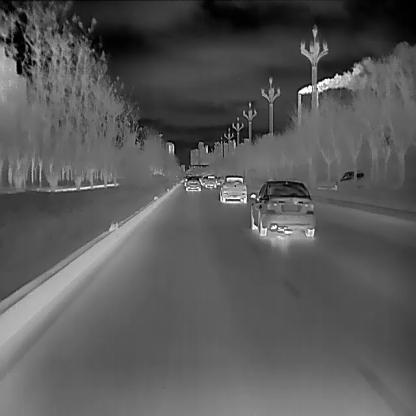car: (249, 179, 315, 236), (219, 174, 246, 202), (184, 176, 200, 191), (205, 174, 216, 188)
